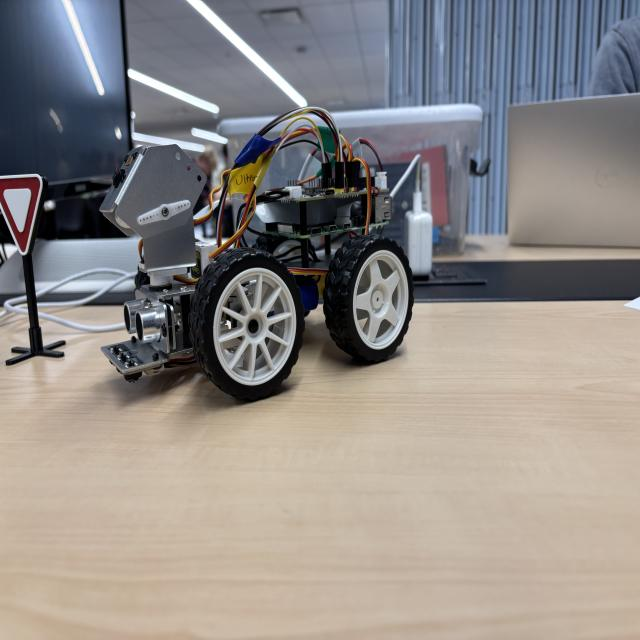sign_yield: (1, 173, 44, 255)
vehicle: (104, 109, 417, 400)
